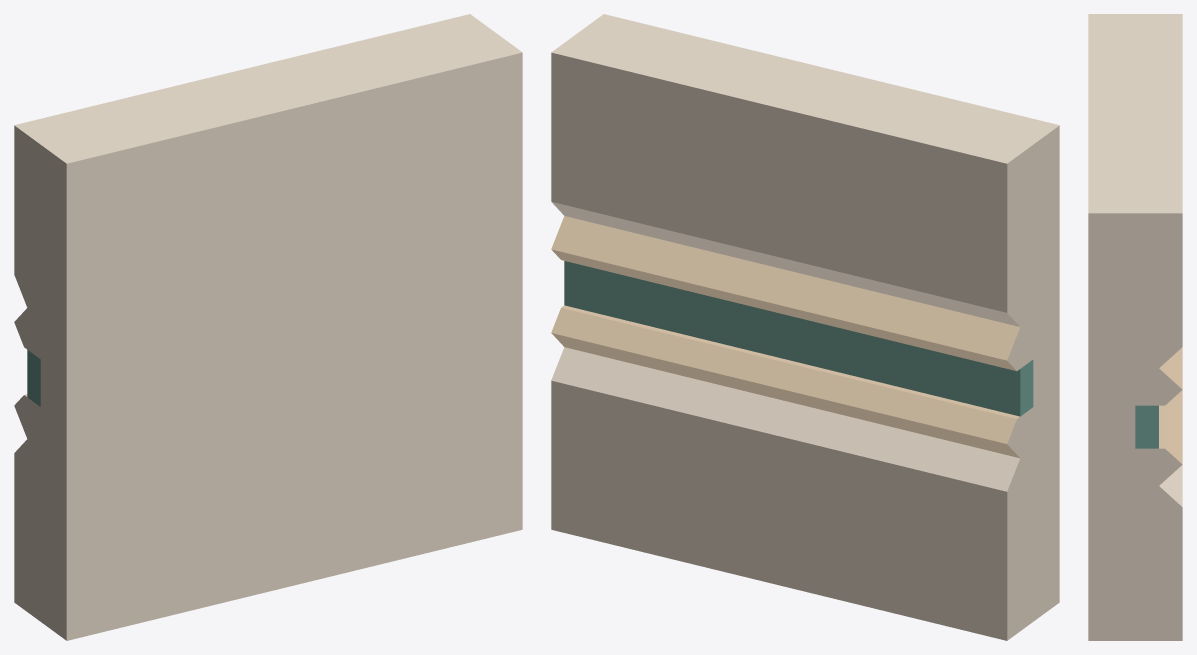
Rendered from Puzzle_Wall_Conduit_Path_Straight.glb.
3 views of the same model, side by side, from view 1: azimuth 30°, elevation 25°; view 2: azimuth 150°, elevation 25°; view 3: azimuth 270°, elevation 25° (orthographic). The views are drawn at different scales.
Parts seen in each view (by area): view 1: Puzzle_Wall_Conduit_Path_Straight; view 2: Puzzle_Wall_Conduit_Path_Straight; view 3: Puzzle_Wall_Conduit_Path_Straight.
Boxes of the visible parts, x1=… form: Puzzle_Wall_Conduit_Path_Straight: x1=14, y1=14, x2=522, y2=640; Puzzle_Wall_Conduit_Path_Straight: x1=551, y1=14, x2=1059, y2=640; Puzzle_Wall_Conduit_Path_Straight: x1=1088, y1=14, x2=1182, y2=640.
Size of the model in its own units: 1 by 1 by 0.2.
